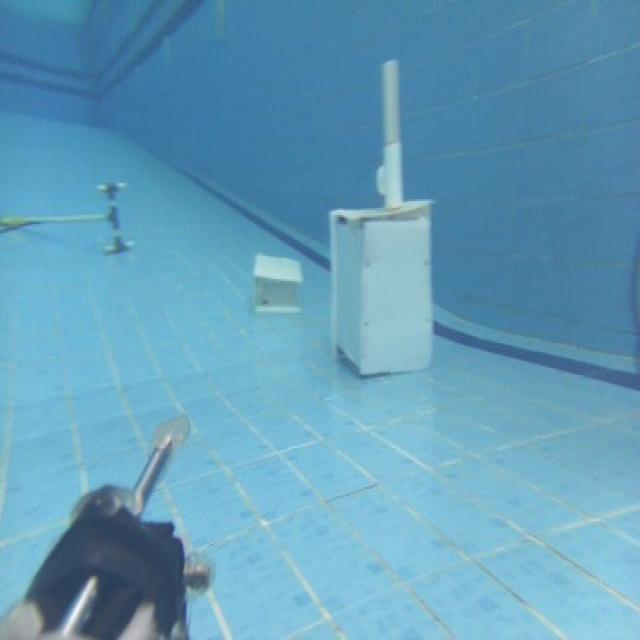Cube: (328, 197, 434, 377)
Cuboid: (251, 251, 303, 313)
